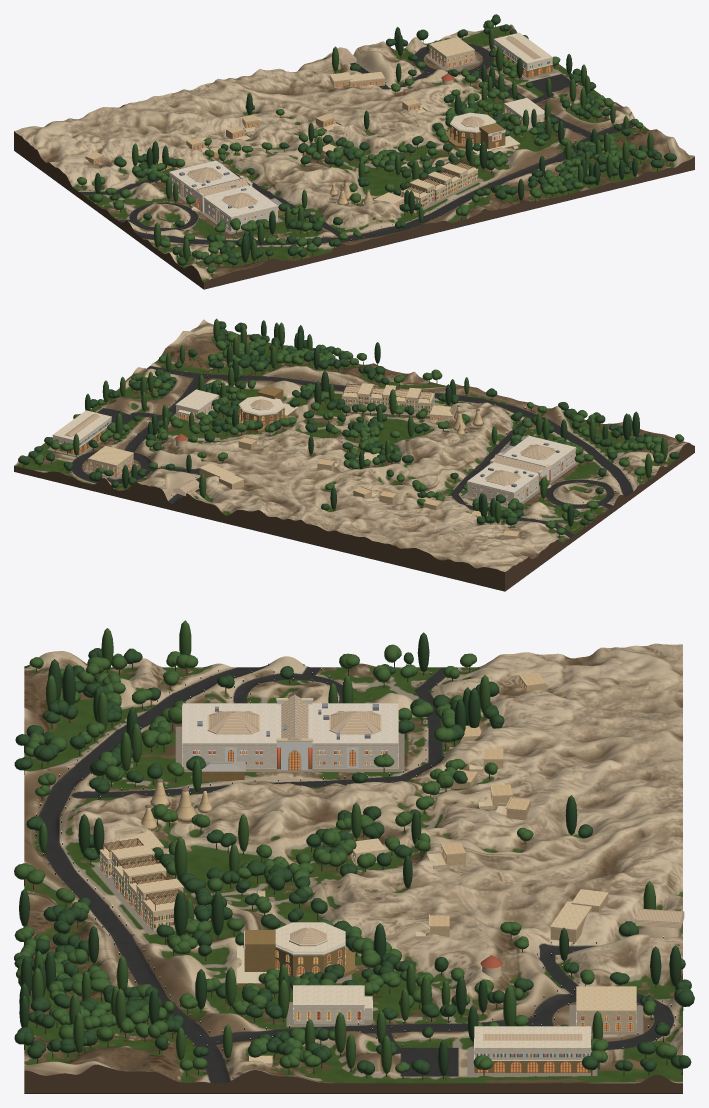
File: ajwa-kapadokya.glb
3 views of the same model, one above another, from view 1: azimuth 30°, elevation 25°; view 2: azimuth 150°, elevation 25°; view 3: azimuth 270°, elevation 25° (orthographic). The views are drawn at different scales.
Parts seen in each view (by area): view 1: lm_arazi, lm_agac, lm_oda, dz_oda; view 2: lm_arazi, lm_agac, lm_oda, dz_oda; view 3: lm_arazi, lm_agac, lm_oda, dz_oda.
Part boxes in pixels (x1,y1,x2,y2): lm_arazi: (14,24,694,282); lm_agac: (77,14,676,274); lm_oda: (14,32,694,289); dz_oda: (95,36,606,243); lm_arazi: (14,319,694,571); lm_agac: (18,318,684,537); lm_oda: (14,366,694,591); dz_oda: (56,368,633,503); lm_arazi: (24,643,682,1083); lm_agac: (14,620,694,1079); lm_oda: (24,663,682,1093); dz_oda: (36,663,684,1072).
Bounding box in the file's own units: 353 × 24.52 × 241.
26 materials, 10 textured.
